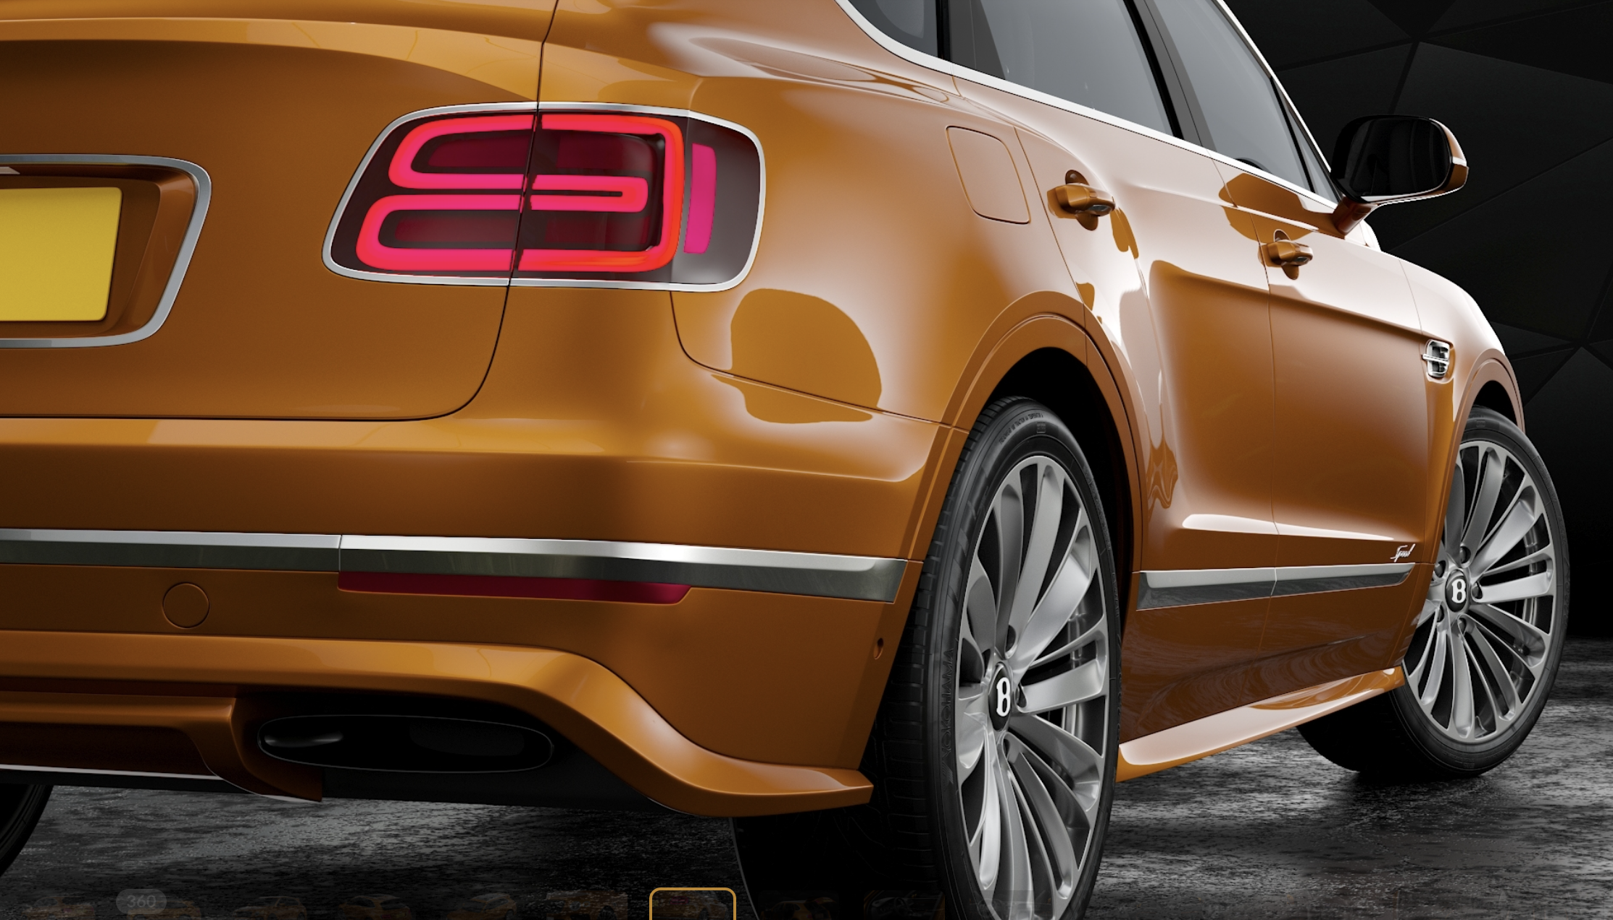hatch: (934, 113, 1049, 241)
